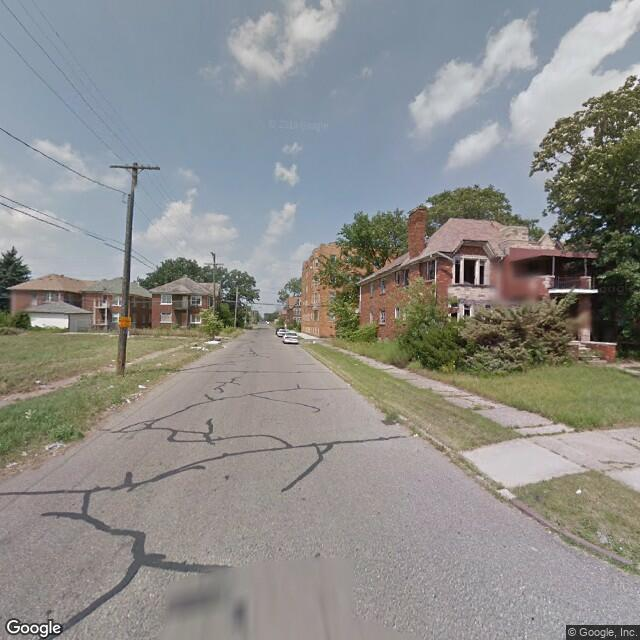litter: (183, 342, 208, 352), (41, 443, 64, 453), (134, 383, 152, 392), (22, 408, 33, 422), (572, 487, 587, 497), (3, 462, 19, 469), (32, 376, 43, 385)
